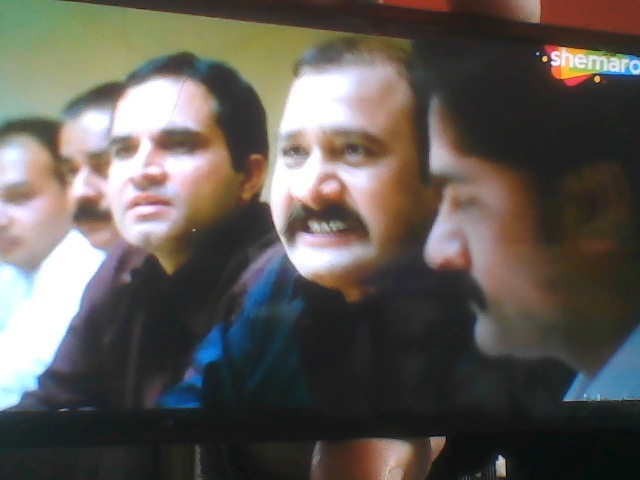fake: (250, 4, 455, 294), (410, 50, 612, 337), (88, 43, 240, 258)
